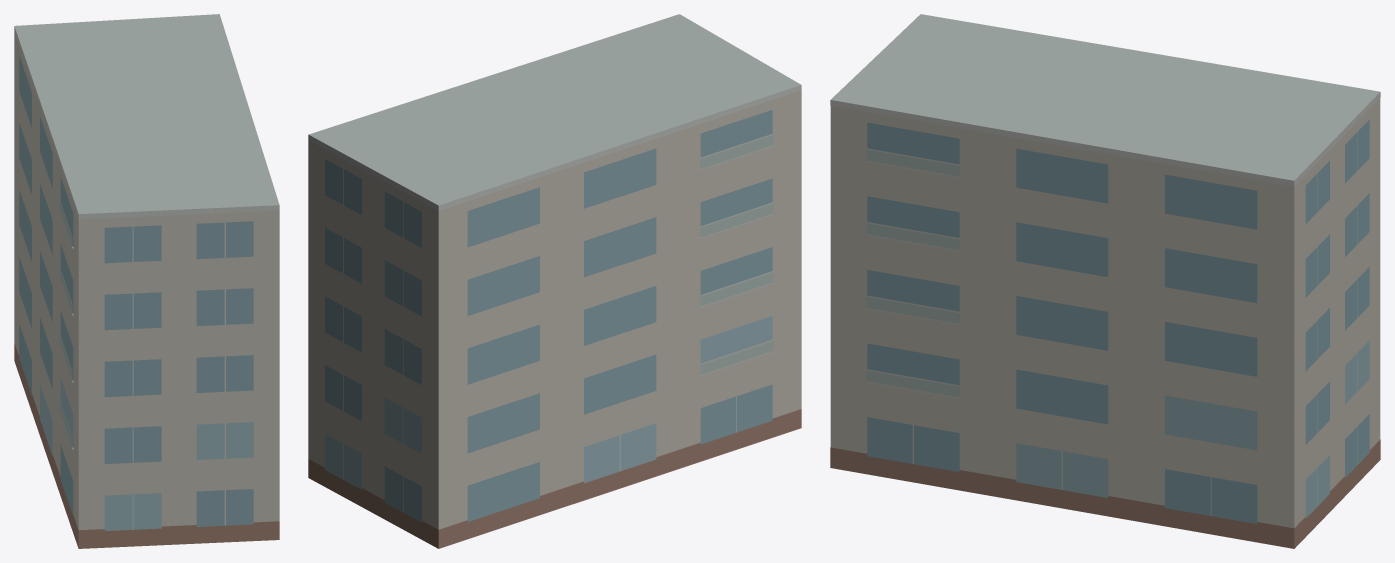
File: survey-upis-32969444.glb
The picture shows the model from 3 angles, left to right: view 1: azimuth 30°, elevation 25°; view 2: azimuth 150°, elevation 25°; view 3: azimuth 270°, elevation 25°; orthographic projection. The views are drawn at different scales.
Visible parts, largest first — view 1: survey-upis-32969444.tmp; view 2: survey-upis-32969444.tmp; view 3: survey-upis-32969444.tmp.
Boxes of the visible parts, box(x1,y1,x2,y2) form: survey-upis-32969444.tmp: box(14, 14, 279, 548); survey-upis-32969444.tmp: box(308, 14, 801, 548); survey-upis-32969444.tmp: box(830, 14, 1380, 548).
Bounding box in the file's own units: 14.83 × 15.25 × 20.66.
